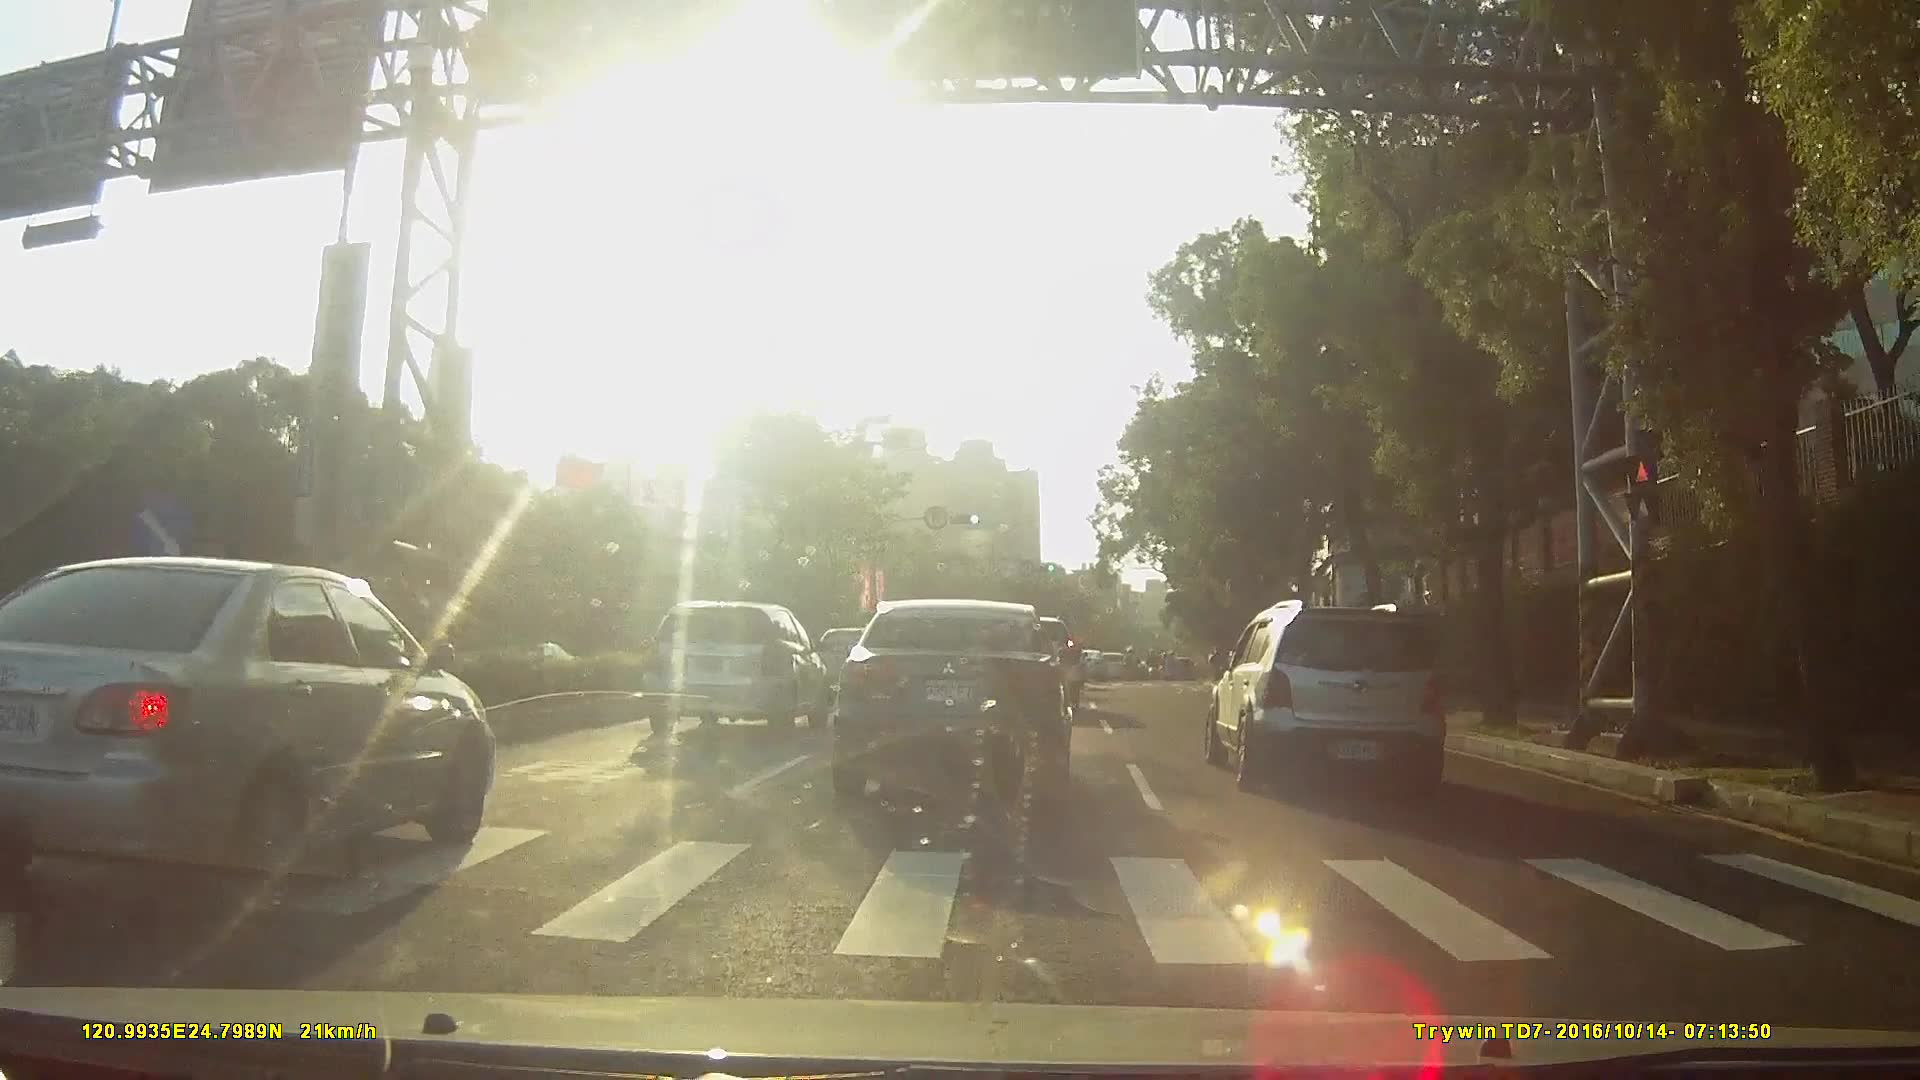vehicle: (1, 545, 502, 898), (1195, 599, 1460, 793), (833, 589, 1083, 795), (633, 596, 828, 732), (1068, 641, 1102, 676), (1091, 645, 1127, 676)
